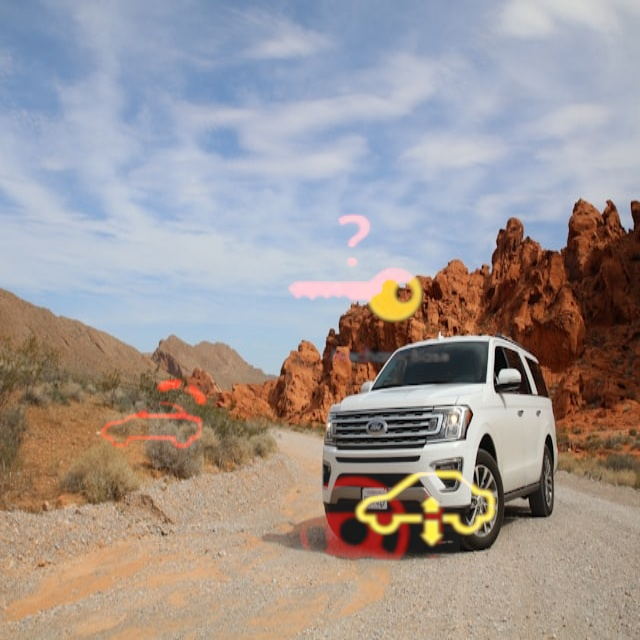symbol: (248, 163, 458, 373), (333, 418, 518, 603), (284, 445, 460, 621), (73, 335, 235, 497)
